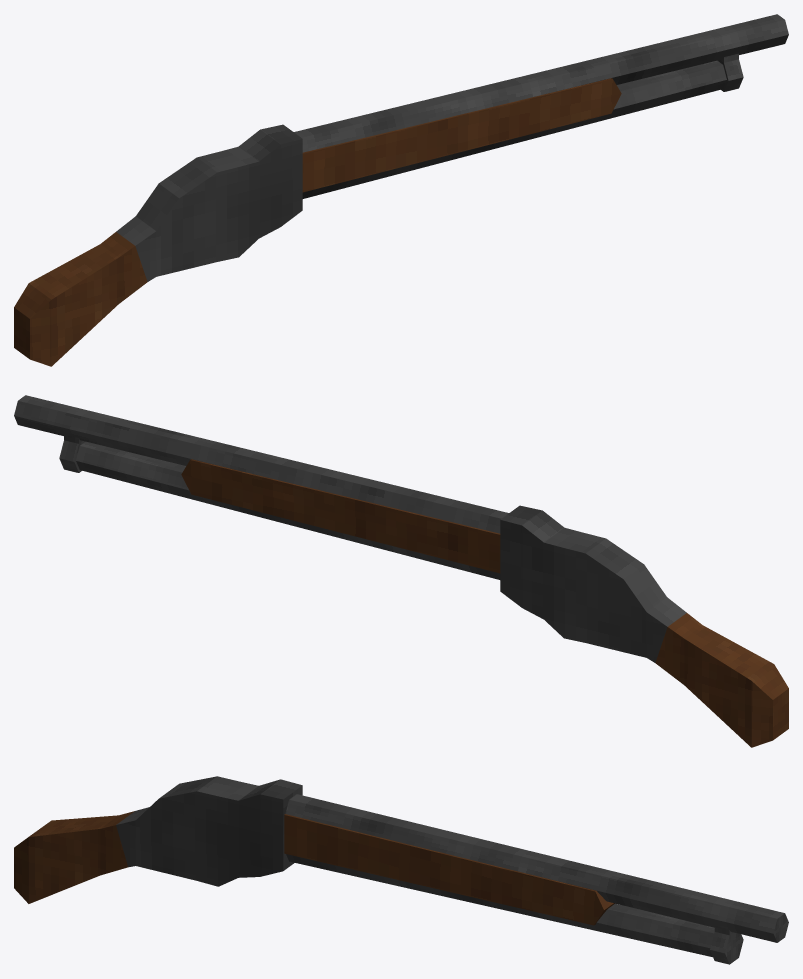
Rendered from BetterShotgun.glb.
3 renders of one model, top to bottom at view 1: azimuth 30°, elevation 25°; view 2: azimuth 150°, elevation 25°; view 3: azimuth 330°, elevation 25°, orthographic.
Parts seen in each view (by area): view 1: Plane.001; view 2: Plane.001; view 3: Plane.001.
Part boxes in pixels (x1,y1,x2,y2): Plane.001: (14, 14, 788, 366); Plane.001: (14, 395, 788, 747); Plane.001: (14, 776, 788, 964).
Bounding box in the file's own units: 4.94 × 1.03 × 0.2558.
Materials: 1 (1 with a texture image).
